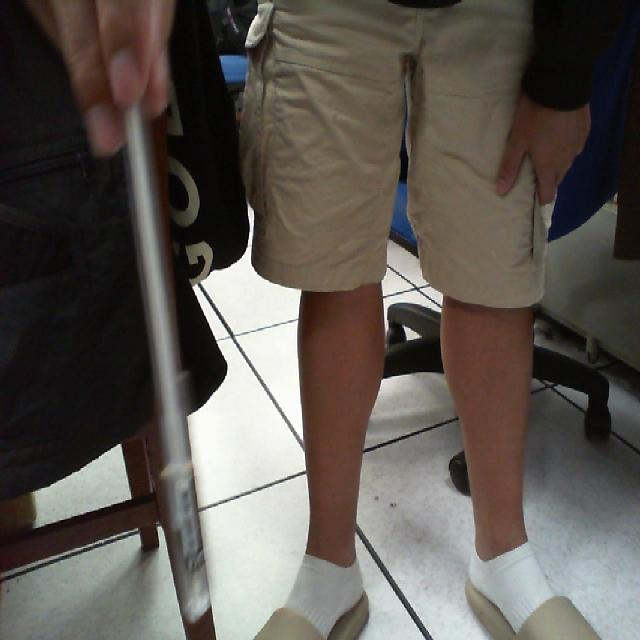Pen: (107, 62, 238, 640)
